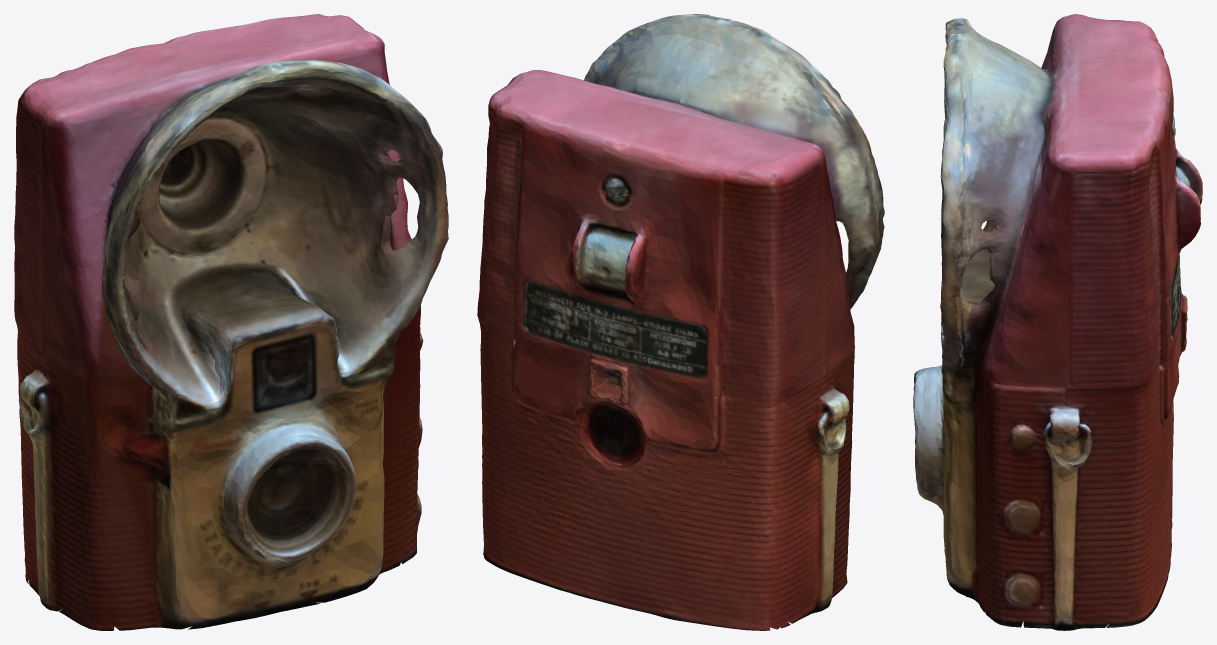
The model's file is starflash.glb.
3 renders of one model, left to right at view 1: azimuth 30°, elevation 25°; view 2: azimuth 150°, elevation 25°; view 3: azimuth 270°, elevation 25°, orthographic. The views are drawn at different scales.
Size of the model in its own units: 0.093 by 0.1254 by 0.0642.
1 material, 1 textured.
